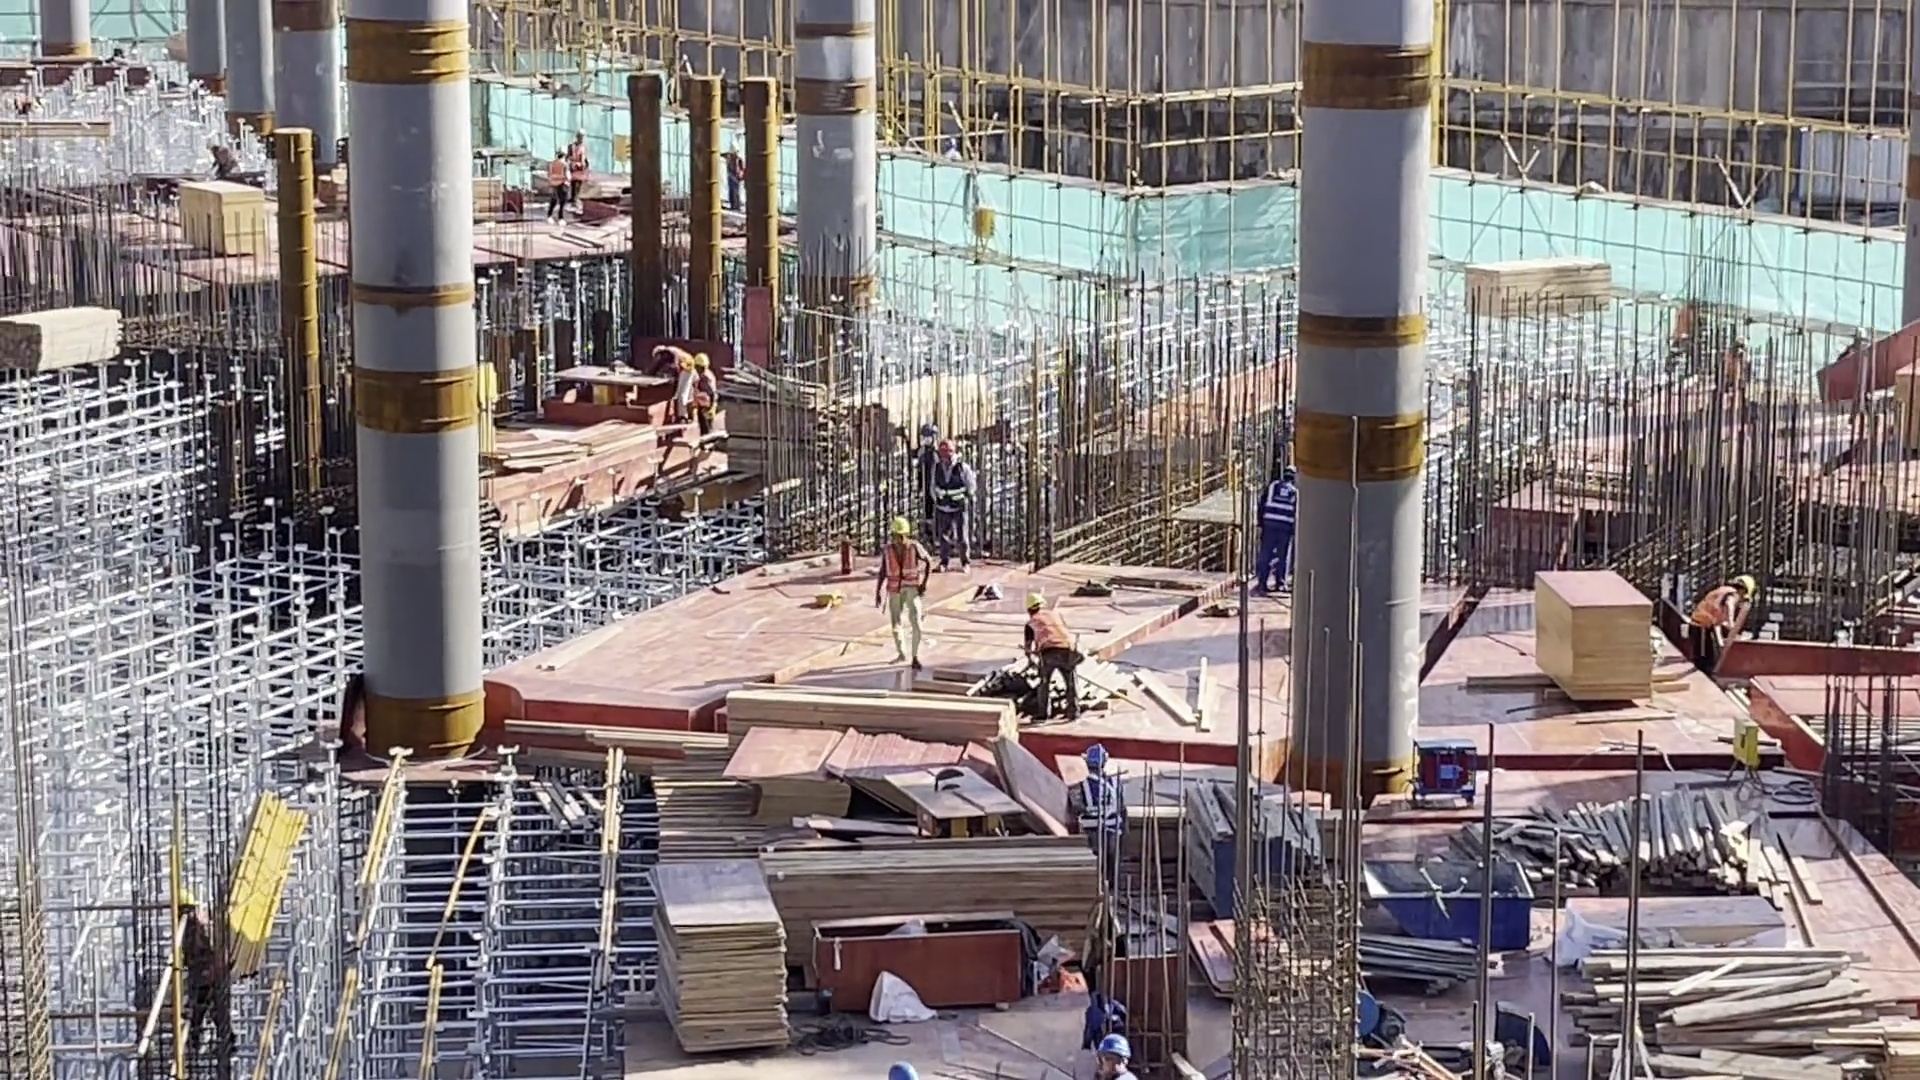board: (625, 686, 1064, 913), (633, 853, 804, 1059), (1518, 563, 1666, 719), (1463, 254, 1639, 331), (508, 431, 643, 526)
helmet: (1081, 739, 1123, 779), (1092, 1034, 1135, 1065), (884, 503, 919, 540), (686, 349, 719, 377), (1017, 585, 1047, 615), (1736, 567, 1761, 600), (932, 443, 954, 463), (550, 146, 565, 162)
hopper: (1359, 831, 1555, 968), (806, 923, 1029, 1015)
person: (1014, 591, 1087, 721), (876, 511, 928, 661), (1682, 572, 1760, 663), (932, 439, 977, 571), (1252, 462, 1294, 589), (1075, 745, 1125, 849), (651, 341, 695, 427), (692, 344, 727, 432), (720, 137, 751, 213), (544, 144, 572, 228), (565, 126, 591, 197)
vest: (1692, 583, 1737, 646), (885, 546, 923, 606), (1027, 615, 1071, 658), (932, 467, 962, 525), (1261, 482, 1294, 533), (549, 169, 569, 198)
wood: (1562, 942, 1920, 1077), (1523, 786, 1770, 909), (729, 371, 824, 488), (3, 293, 121, 376)
